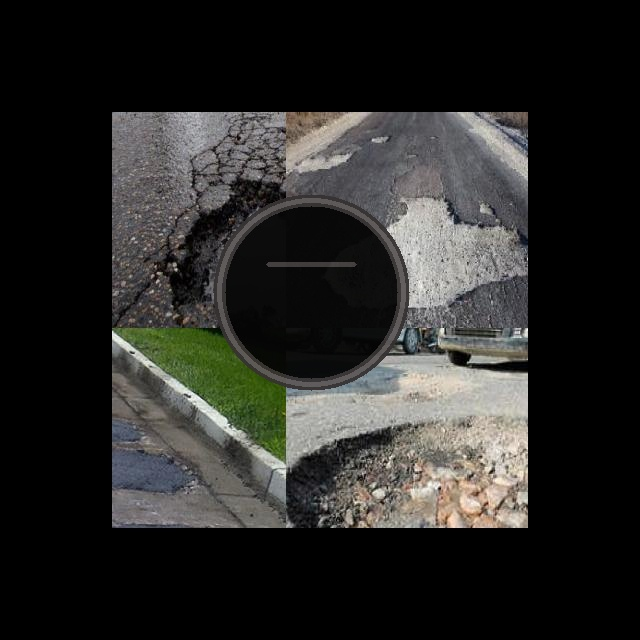open_manhole: (210, 191, 412, 393)
